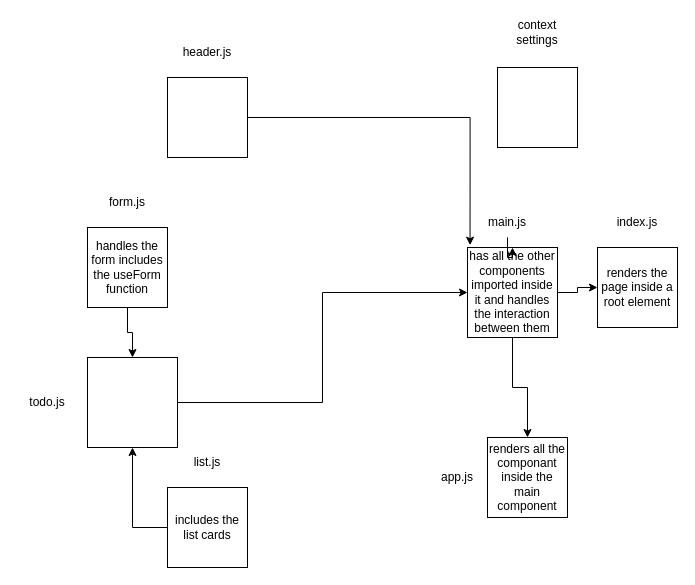
Image size: 695x585. Some labels were removed from this diagram. Here are the shapes that lost their labels. From the top down, the centre of each, then its label:
the point at 207,117: handles the header, include the header text
the point at 537,107: has all the context setting
the point at 132,402: handles basically everything for now include the form and the list cards
